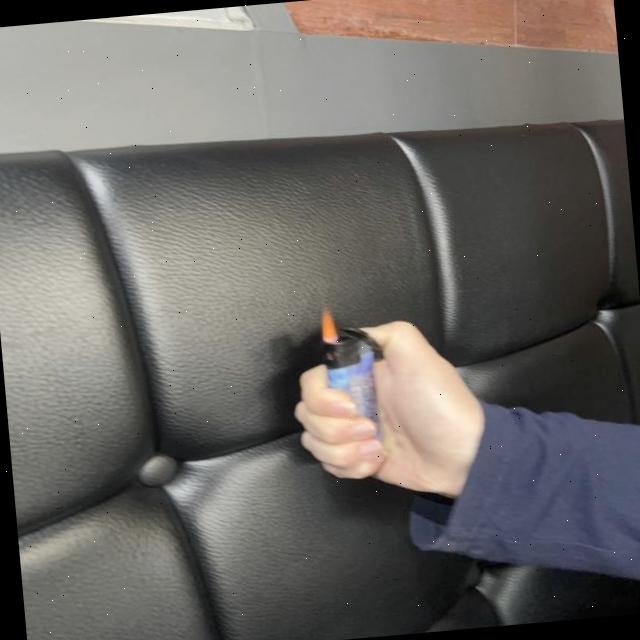fire: (320, 304, 340, 342)
